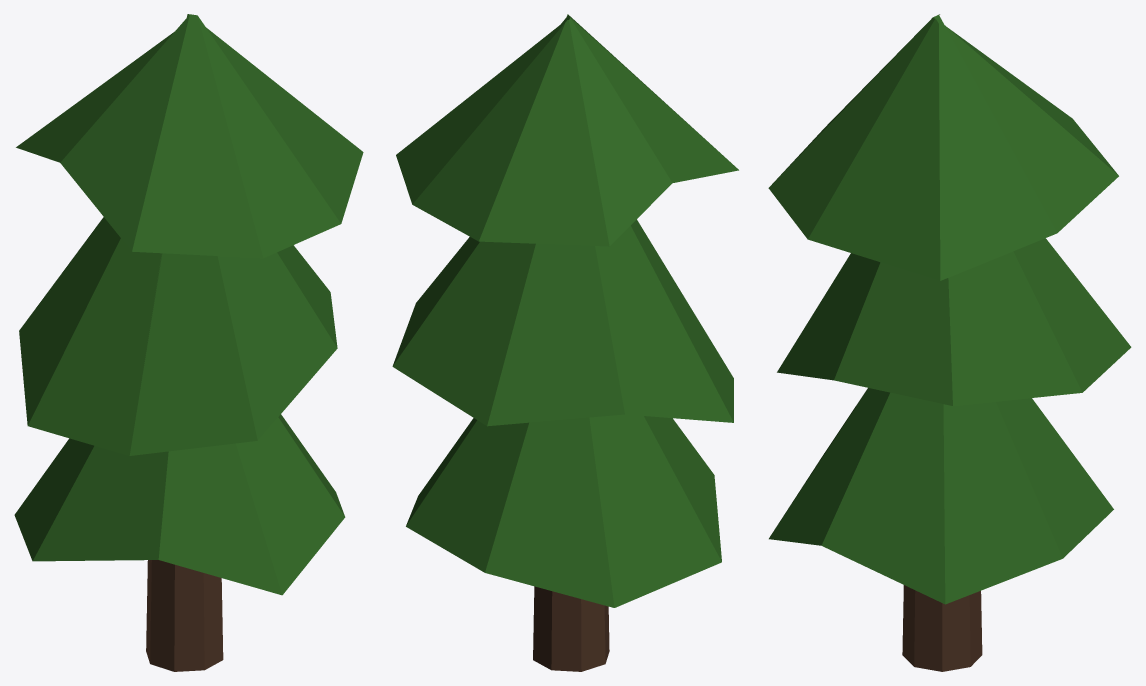
The model's file is pine.glb.
3 views of the same model, side by side, from view 1: azimuth 30°, elevation 25°; view 2: azimuth 150°, elevation 25°; view 3: azimuth 270°, elevation 25° (orthographic).
Visible parts, largest first — view 1: Cylinder; view 2: Cylinder; view 3: Cylinder.
Boxes of the visible parts, x1=… form: Cylinder: x1=14, y1=14, x2=363, y2=671; Cylinder: x1=392, y1=14, x2=738, y2=671; Cylinder: x1=768, y1=14, x2=1131, y2=671.
Size of the model in its own units: 0.4837 by 0.8766 by 0.4494.
